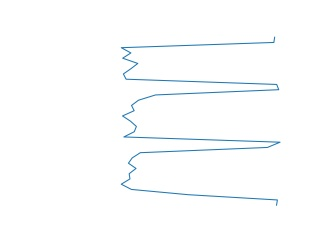majorRiverChannelBar: (119, 36, 283, 206)
